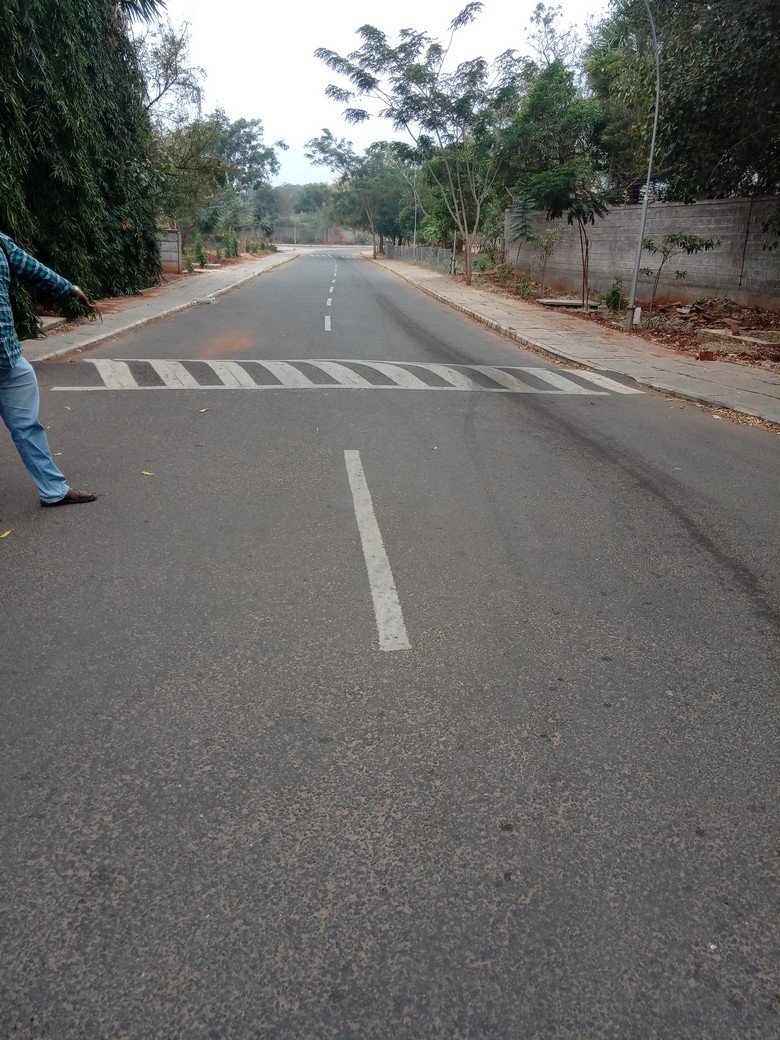bump: (40, 357, 649, 394)
